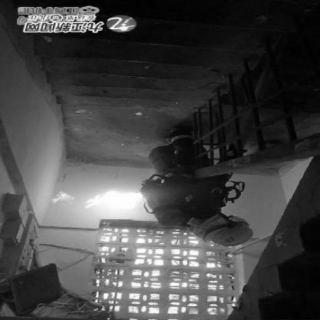Fire: (42, 187, 146, 215)
